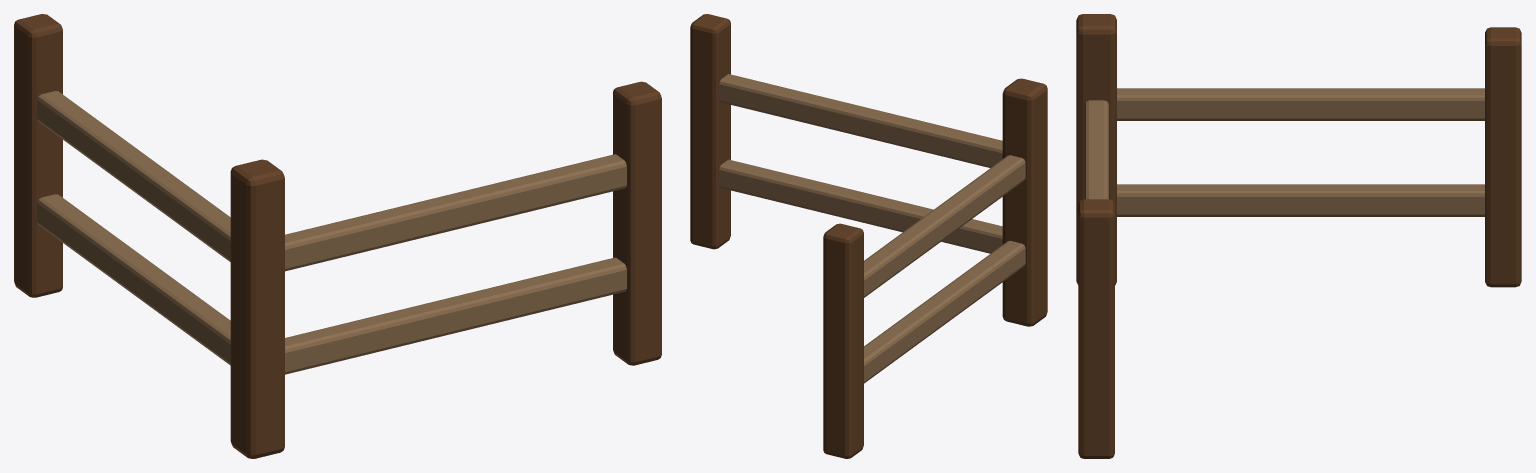
The model's file is fence_corner_2x2.glb.
3 renders of one model, left to right at view 1: azimuth 30°, elevation 25°; view 2: azimuth 150°, elevation 25°; view 3: azimuth 270°, elevation 25°, orthographic. The views are drawn at different scales.
Visible parts, largest first — view 1: fence_corner_post, fence_corner_x_rail_02, fence_corner_x_rail_01, fence_corner_x_post, fence_corner_y_post, fence_corner_y_rail_01, fence_corner_y_rail_02; view 2: fence_corner_post, fence_corner_y_post, fence_corner_x_post, fence_corner_x_rail_02, fence_corner_x_rail_01, fence_corner_y_rail_02, fence_corner_y_rail_01; view 3: fence_corner_y_rail_01, fence_corner_y_rail_02, fence_corner_y_post, fence_corner_x_post, fence_corner_post, fence_corner_x_rail_02.
Boxes of the visible parts, <box> form: fence_corner_post: <box>230,159,284,458</box>; fence_corner_x_rail_02: <box>285,154,626,271</box>; fence_corner_x_rail_01: <box>285,257,626,374</box>; fence_corner_x_post: <box>613,81,661,365</box>; fence_corner_y_post: <box>14,14,62,297</box>; fence_corner_y_rail_01: <box>37,194,230,365</box>; fence_corner_y_rail_02: <box>37,91,230,261</box>; fence_corner_post: <box>1002,78,1047,326</box>; fence_corner_y_post: <box>823,223,863,458</box>; fence_corner_x_post: <box>690,14,730,249</box>; fence_corner_x_rail_02: <box>719,74,1002,167</box>; fence_corner_x_rail_01: <box>719,159,1002,253</box>; fence_corner_y_rail_02: <box>864,155,1025,297</box>; fence_corner_y_rail_01: <box>864,241,1025,383</box>; fence_corner_y_rail_01: <box>1117,184,1484,216</box>; fence_corner_y_rail_02: <box>1117,88,1484,120</box>; fence_corner_y_post: <box>1485,27,1521,287</box>; fence_corner_x_post: <box>1078,199,1114,458</box>; fence_corner_post: <box>1076,14,1116,285</box>; fence_corner_x_rail_02: <box>1084,100,1108,199</box>.
Size of the model in its own units: 2.19 by 1.42 by 2.19.
